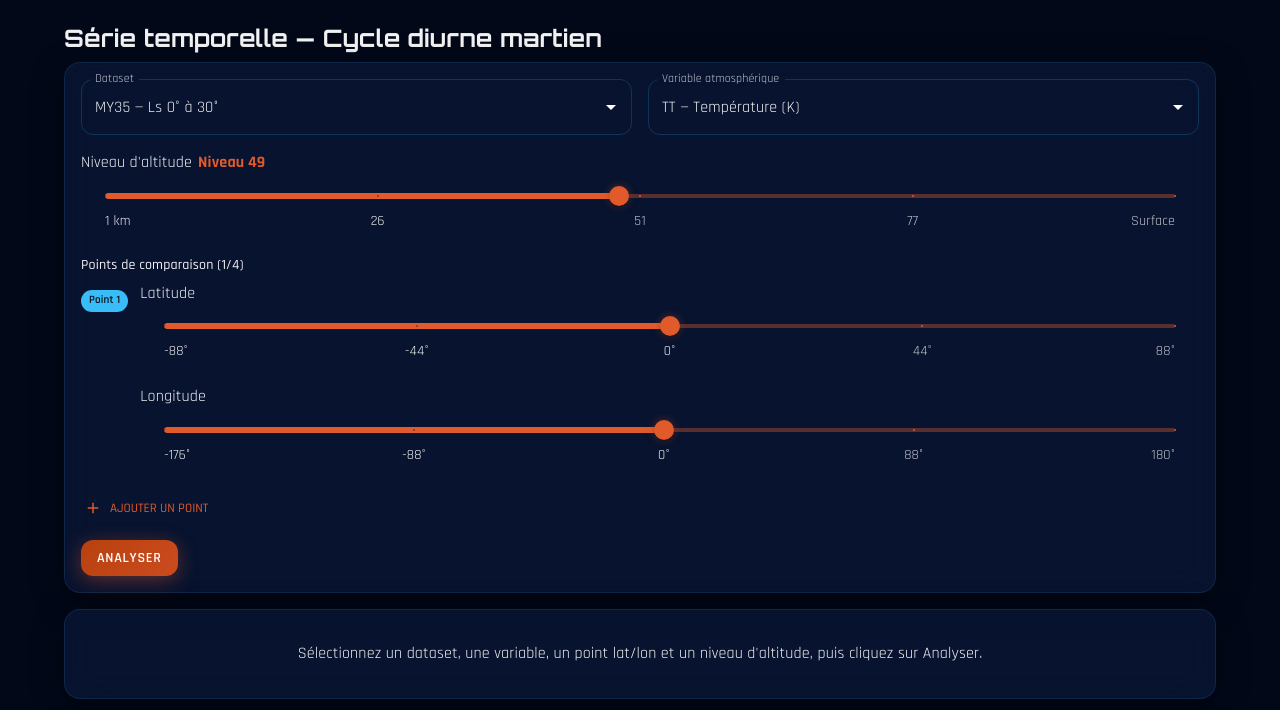
it: Serie temporelle — points compares › REFUSE le lot entier si une seule reponse est inexploitable
The width and height of the screenshot is (1280, 710).
Expected: the button "Analyser" is enabled, [81,540,178,576]
Click the button "Ajouter un point". click: (147, 508)
box: [81,493,213,524]
(page scrolled)
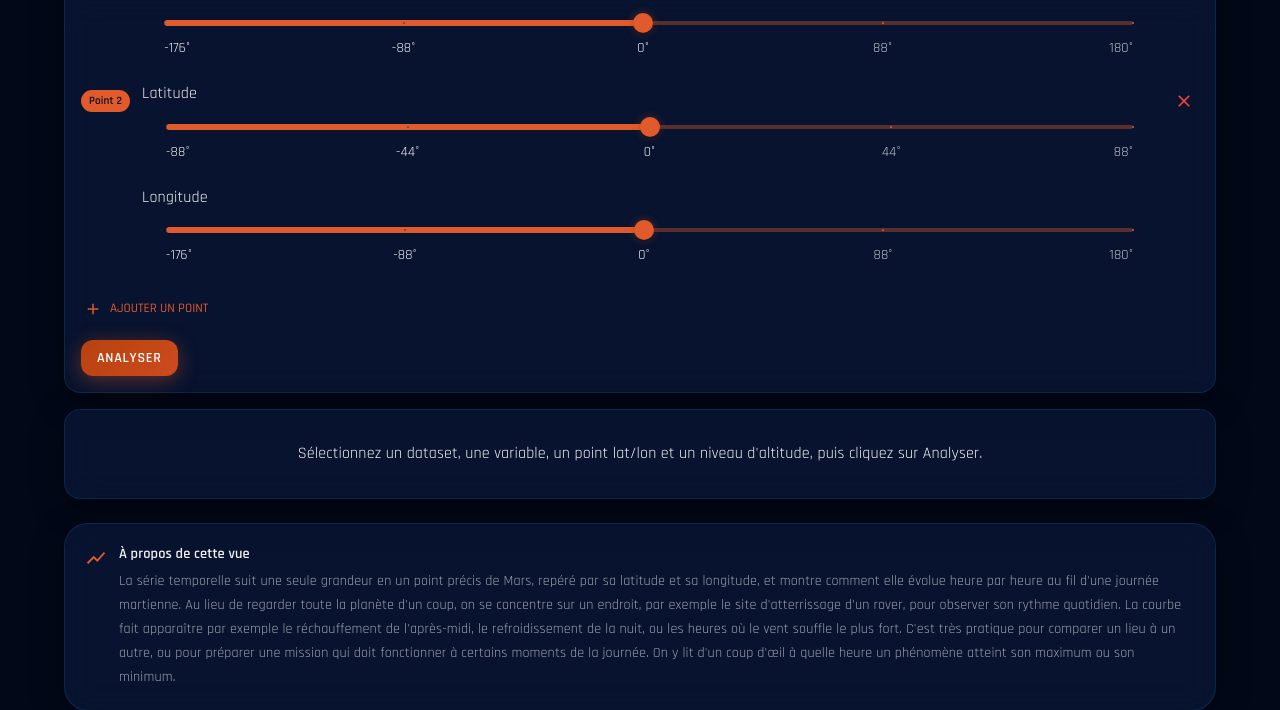
Click the button "Analyser". click: (129, 358)
box: [81,340,178,376]
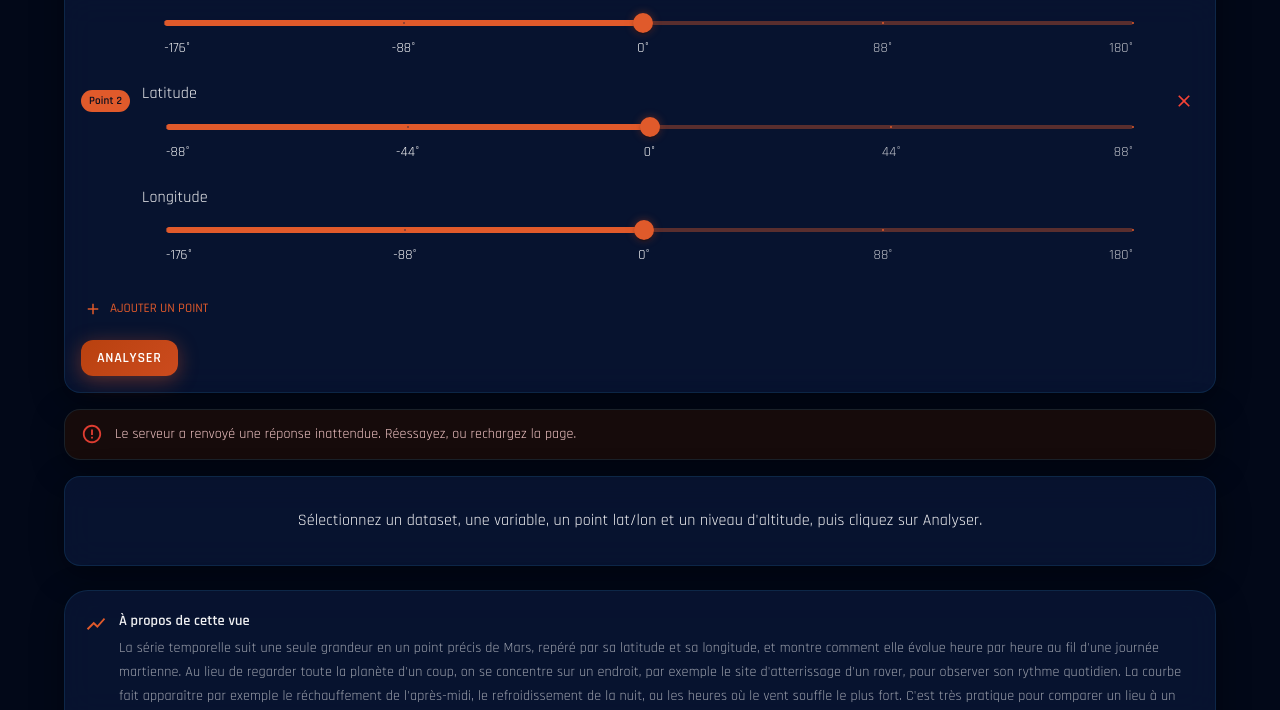
Expected: the text "Le serveur a renvoyé une réponse inattendue. Réessayez, ou rechargez la page." is shown, [115,426,576,444]
